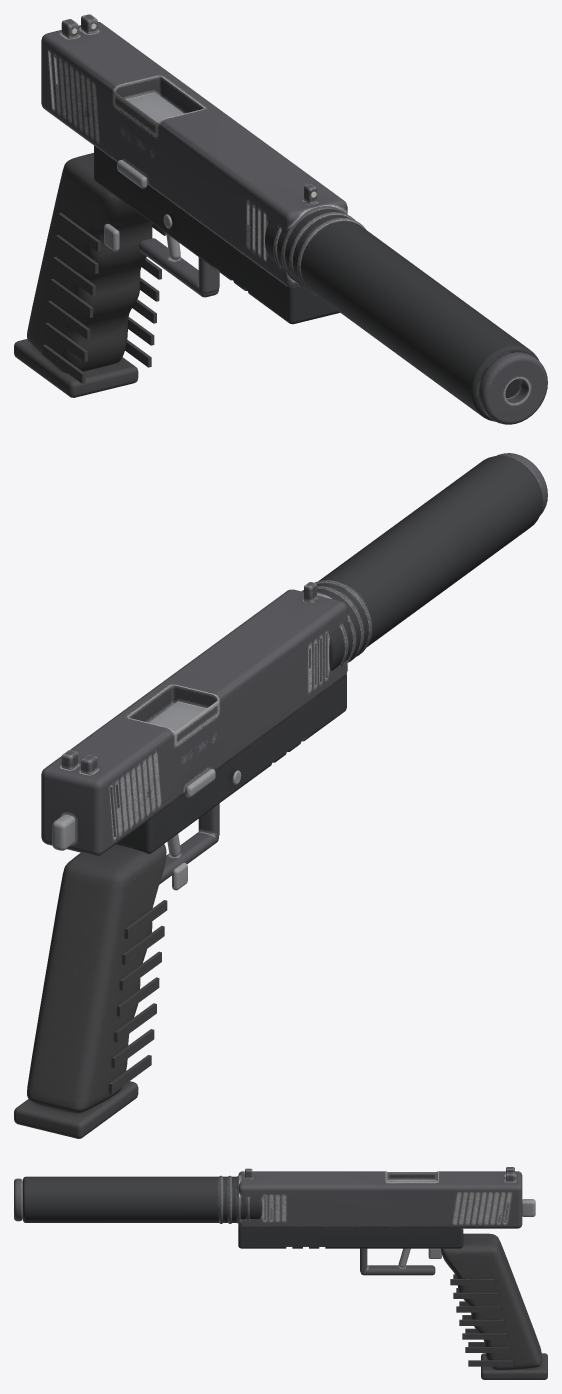
File: usp.fbx
3 views of the same model, one above another, from view 1: azimuth 30°, elevation 25°; view 2: azimuth 150°, elevation 25°; view 3: azimuth 270°, elevation 25° (orthographic). The views are drawn at different scales.
Parts seen in each view (by area): view 1: usp; view 2: usp; view 3: usp.
Part boxes in pixels (left/top/right/bottom): usp: left=14, top=14, right=547, bottom=424; usp: left=14, top=453, right=547, bottom=1138; usp: left=14, top=1167, right=547, bottom=1379.
Size of the model in its own units: 0.0327 by 0.149 by 0.3571.
